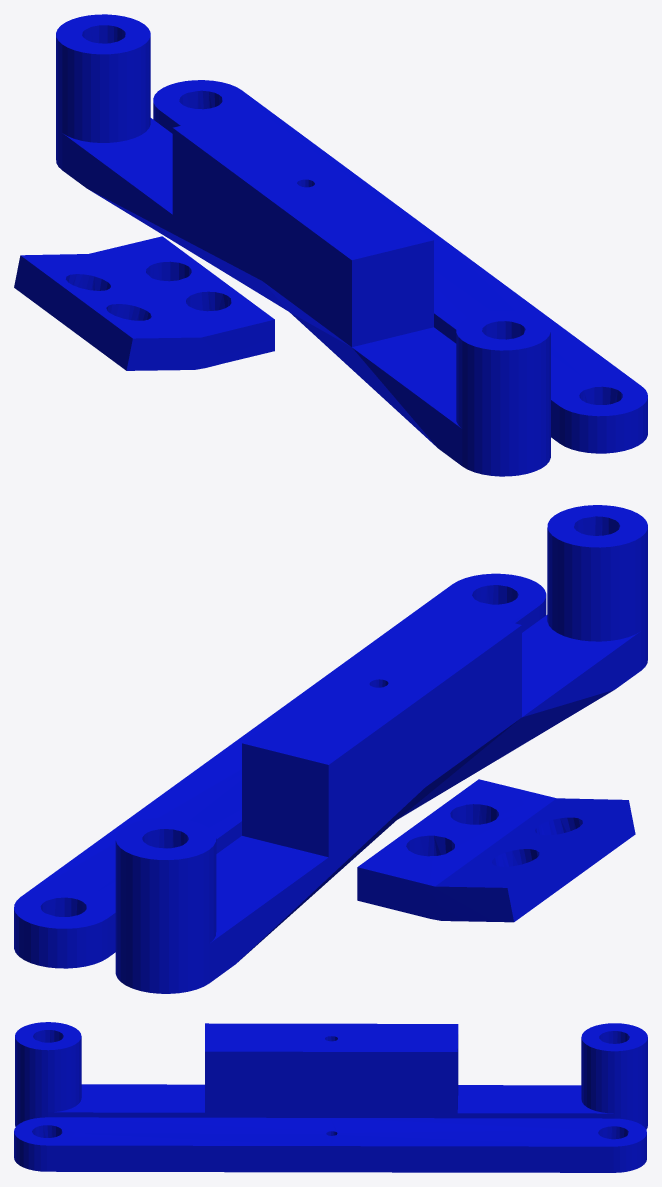
The model's file is steering_rods.glb.
3 views of the same model, one above another, from view 1: azimuth 30°, elevation 25°; view 2: azimuth 150°, elevation 25°; view 3: azimuth 270°, elevation 25° (orthographic). The views are drawn at different scales.
Parts seen in each view (by area): view 1: VizDriveSteeringRodsAndCameraSupport; view 2: VizDriveSteeringRodsAndCameraSupport; view 3: VizDriveSteeringRodsAndCameraSupport.
Boxes of the visible parts, x1,y1,x2,y2 form: VizDriveSteeringRodsAndCameraSupport: (14,14,647,476); VizDriveSteeringRodsAndCameraSupport: (14,505,647,993); VizDriveSteeringRodsAndCameraSupport: (14,1022,647,1172).
Bounding box in the file's own units: 33.42 × 12.05 × 75.28.
